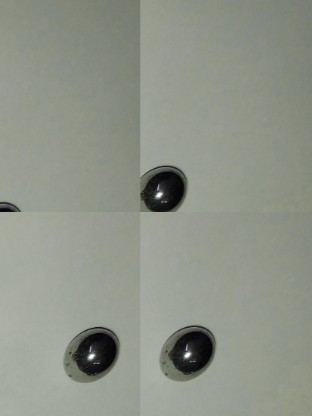ironball: (58, 322, 121, 387), (153, 323, 218, 381), (138, 162, 192, 212), (0, 196, 27, 210)
